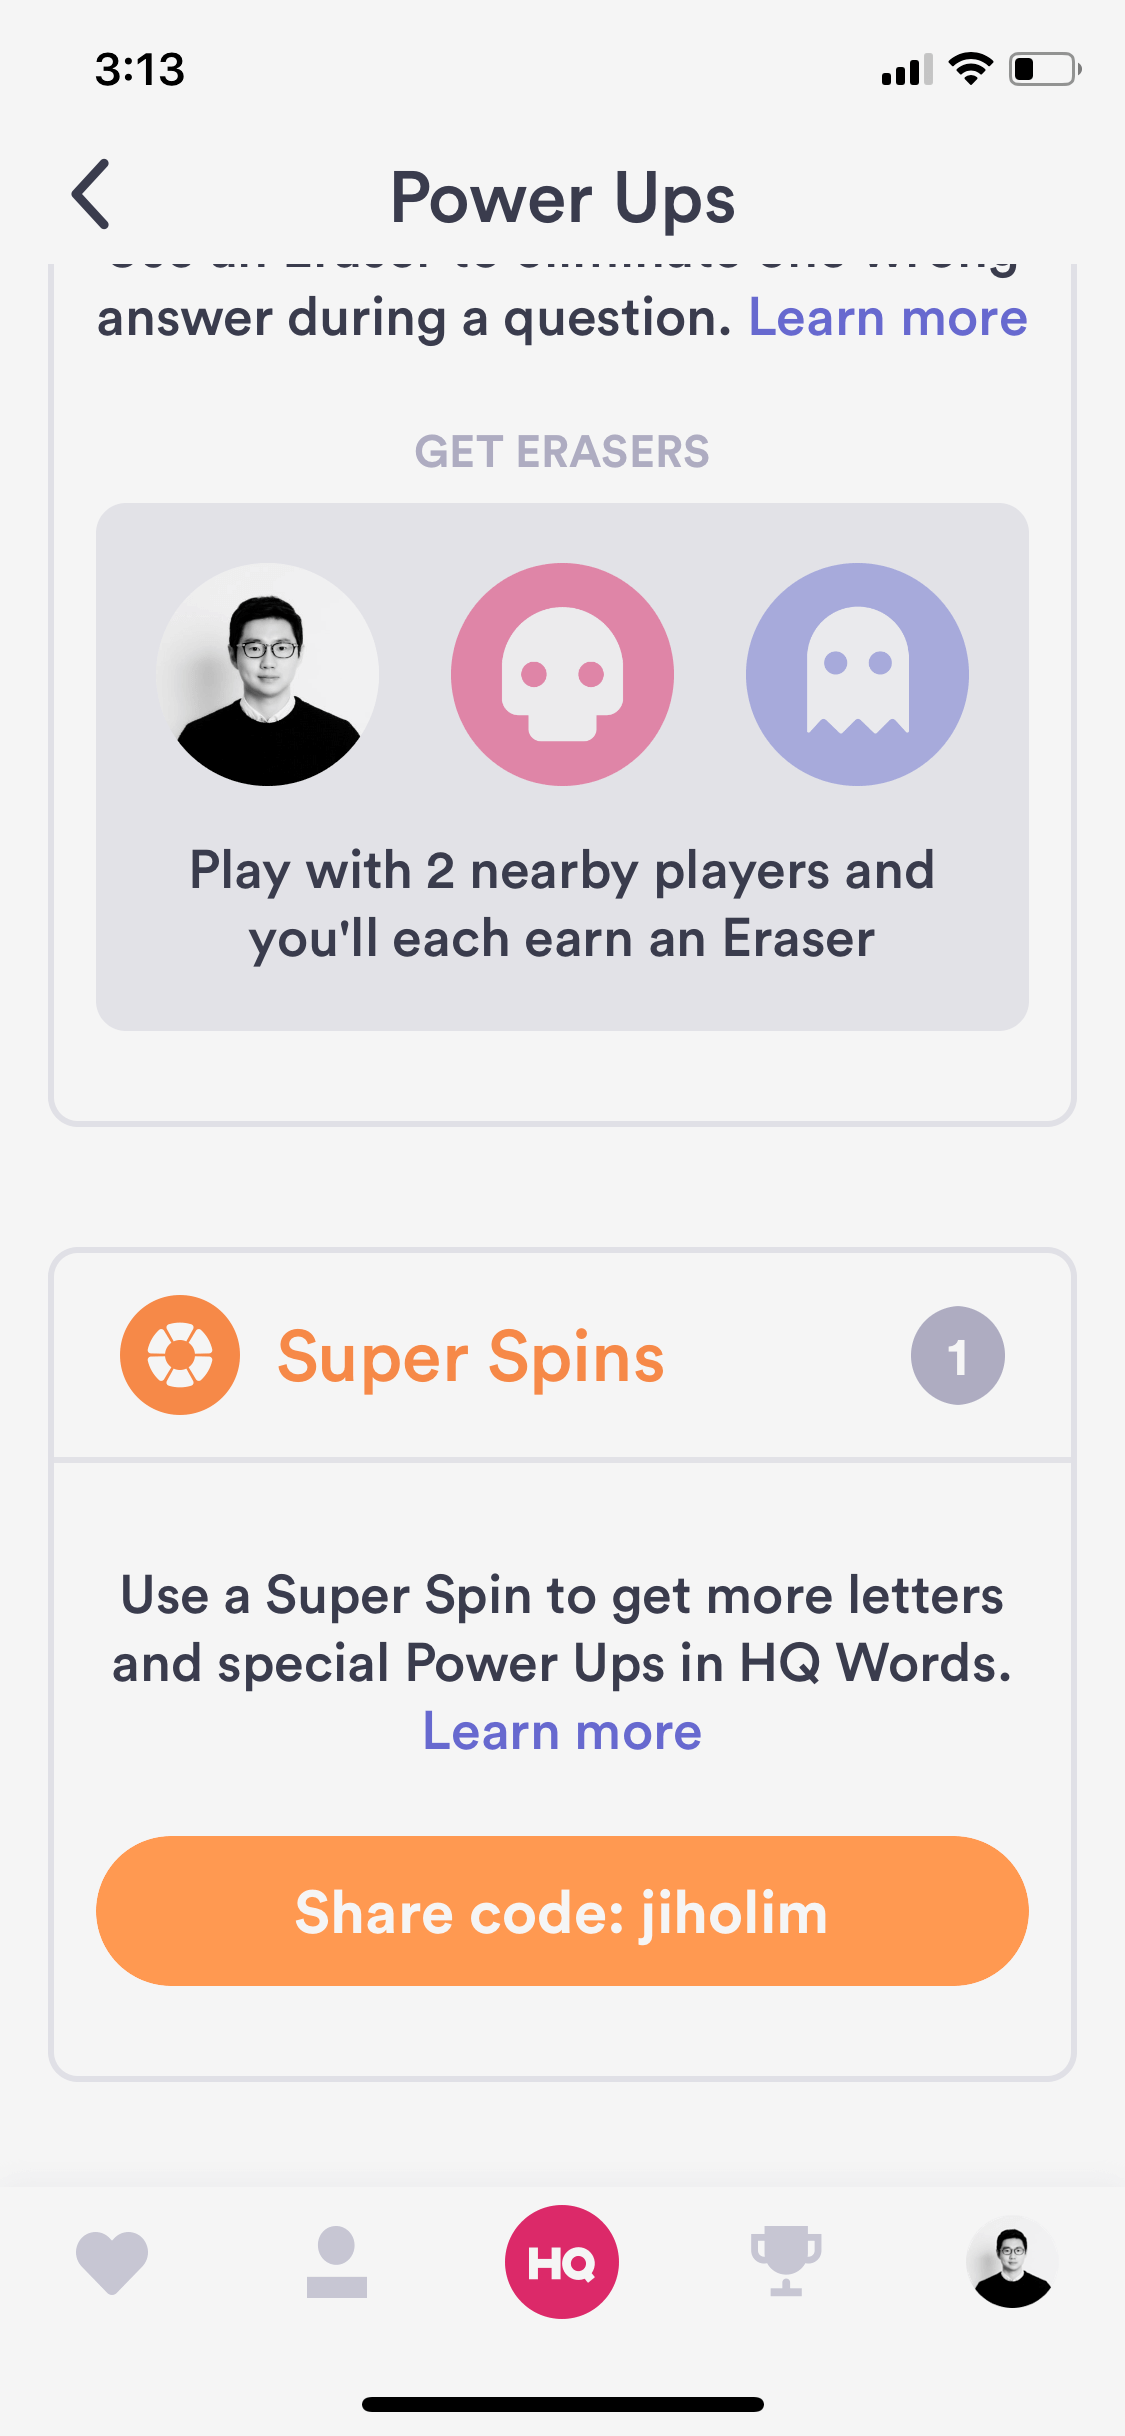Buttons: (89, 1829, 1033, 1999)
